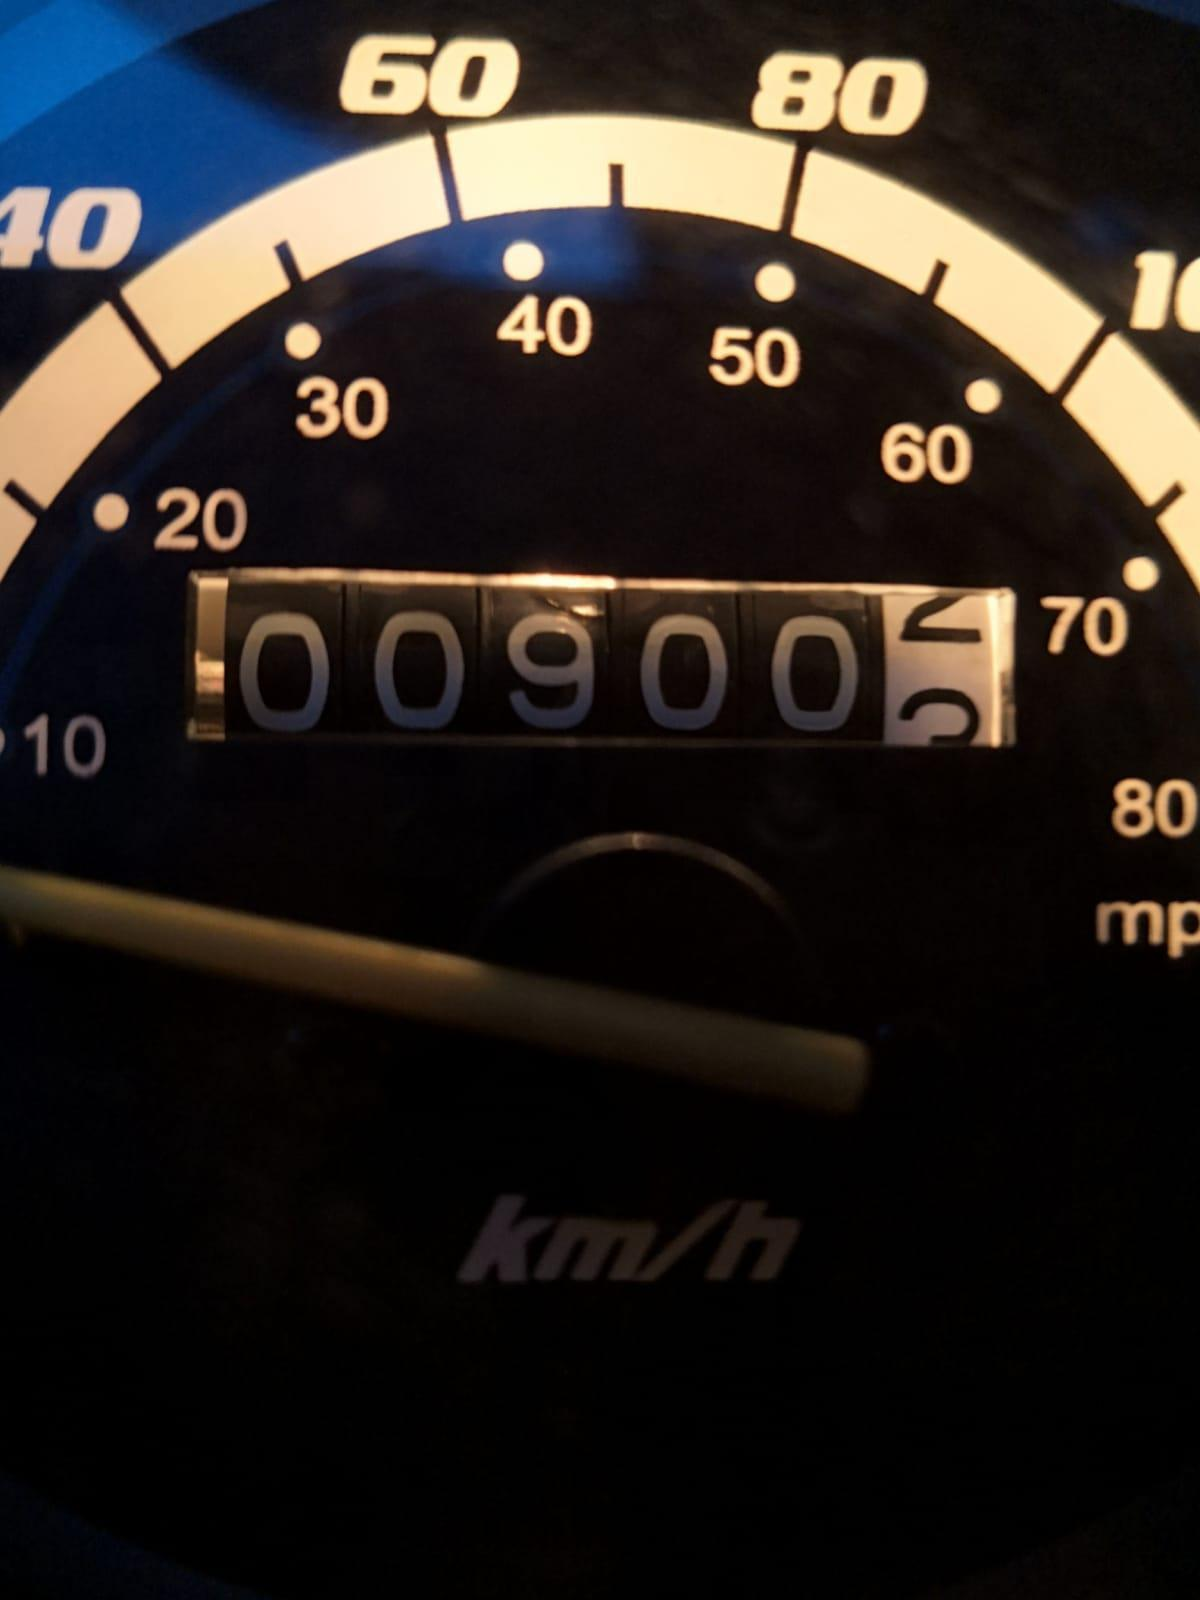0: (231, 591, 342, 736), (364, 600, 470, 734), (760, 609, 862, 746), (634, 603, 729, 745)
2: (896, 552, 1001, 666)
9: (500, 591, 608, 733)
odometer: (171, 553, 1035, 763)
